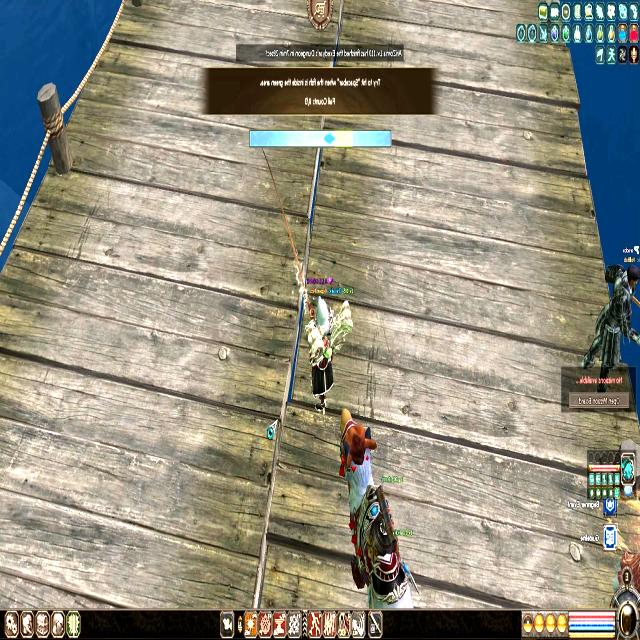fishes: (323, 131, 336, 146)
